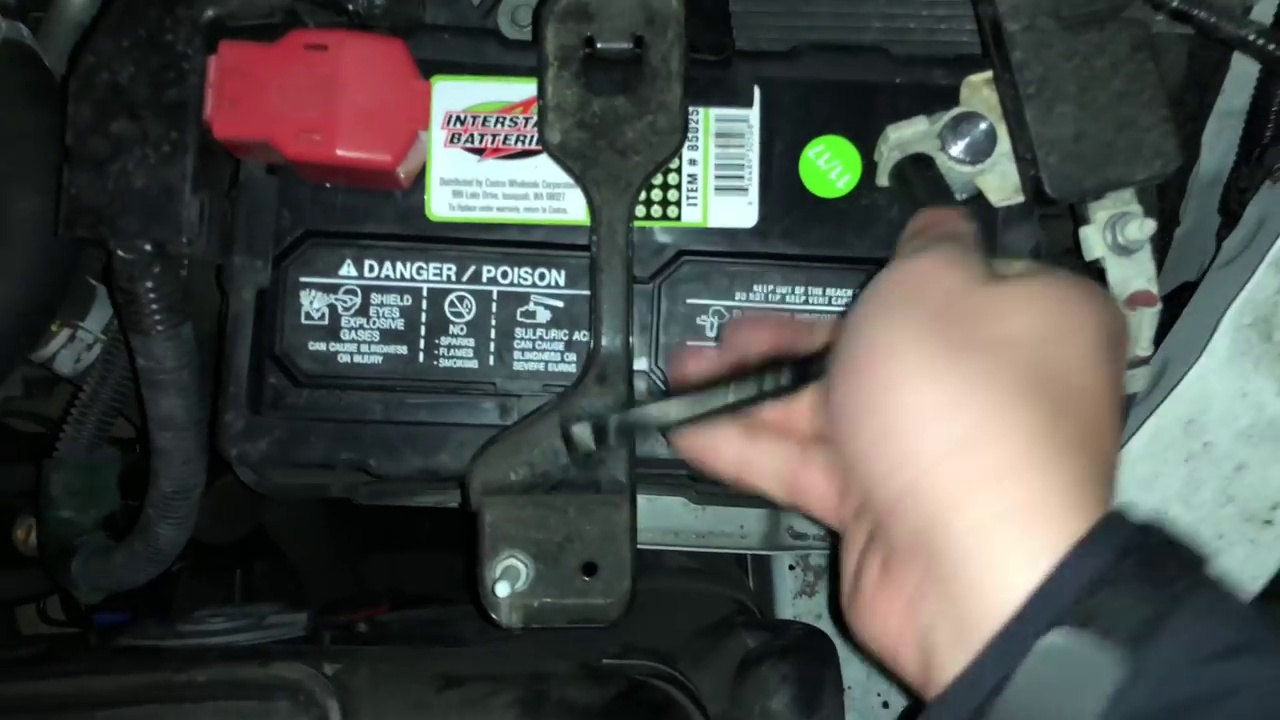battery: (237, 33, 1010, 527)
neg_connected: (836, 62, 1017, 215)
pos_connected: (167, 13, 444, 208)
